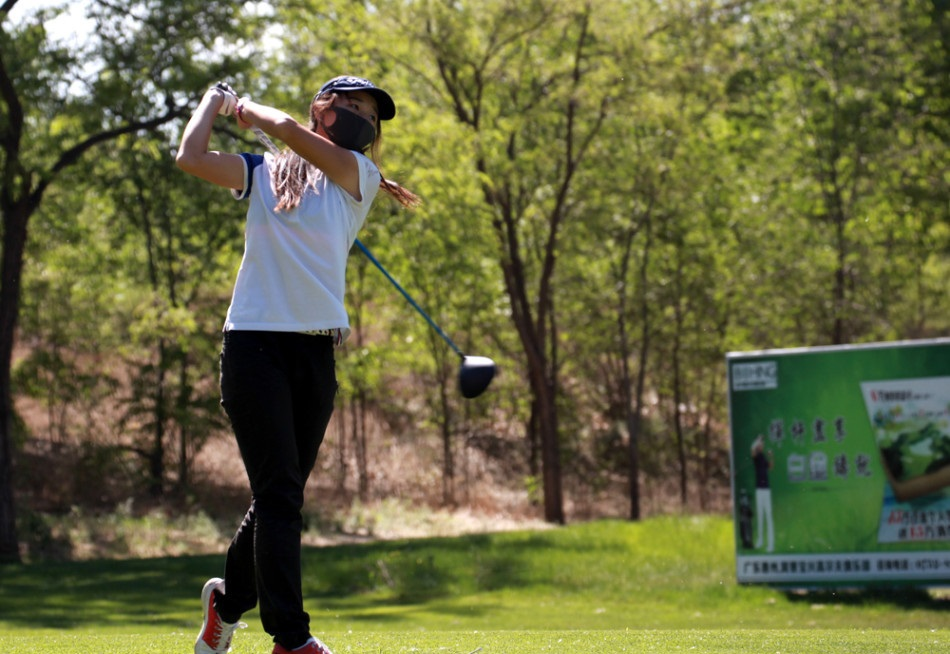face_mask: (325, 86, 380, 148)
